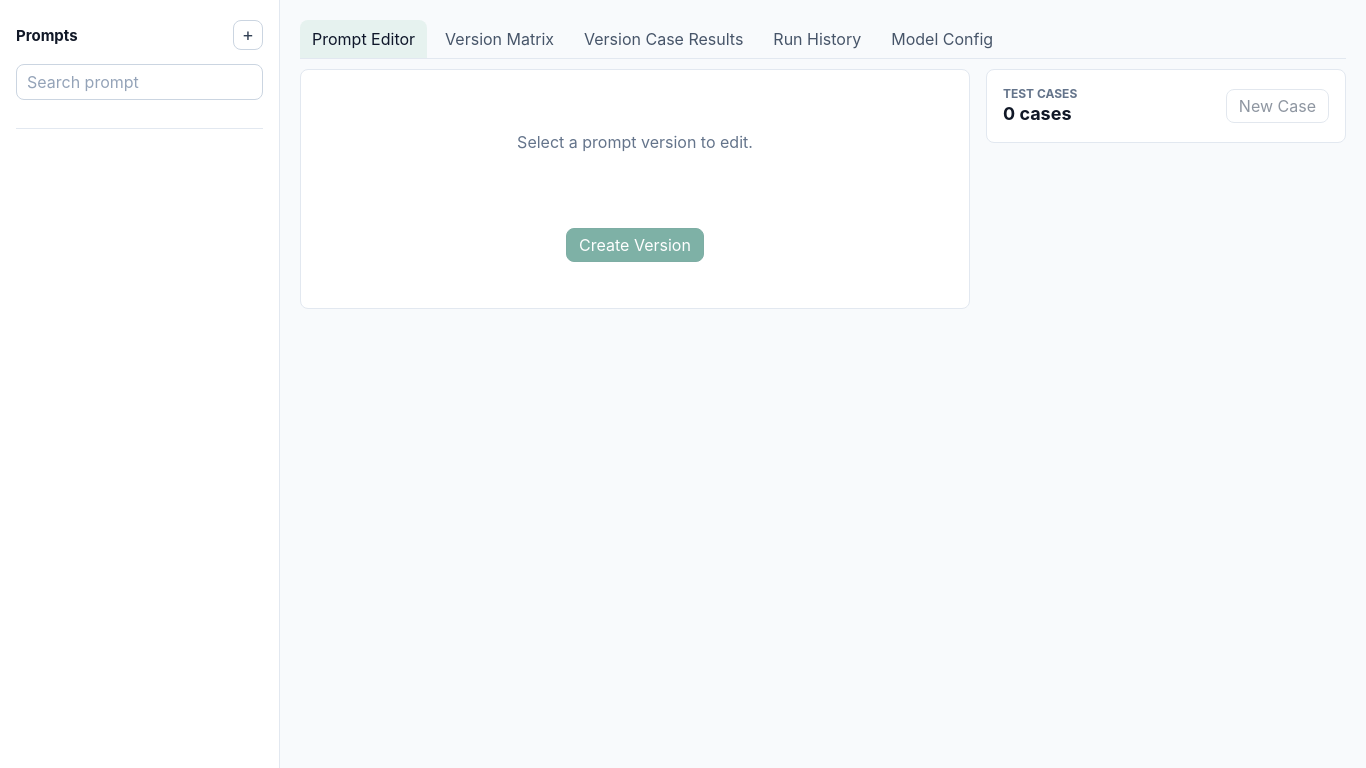
Test: App prompt creation › opens an in-app form when creating a prompt
Click the button named "New prompt" at [248, 35], box [233, 20, 263, 50]
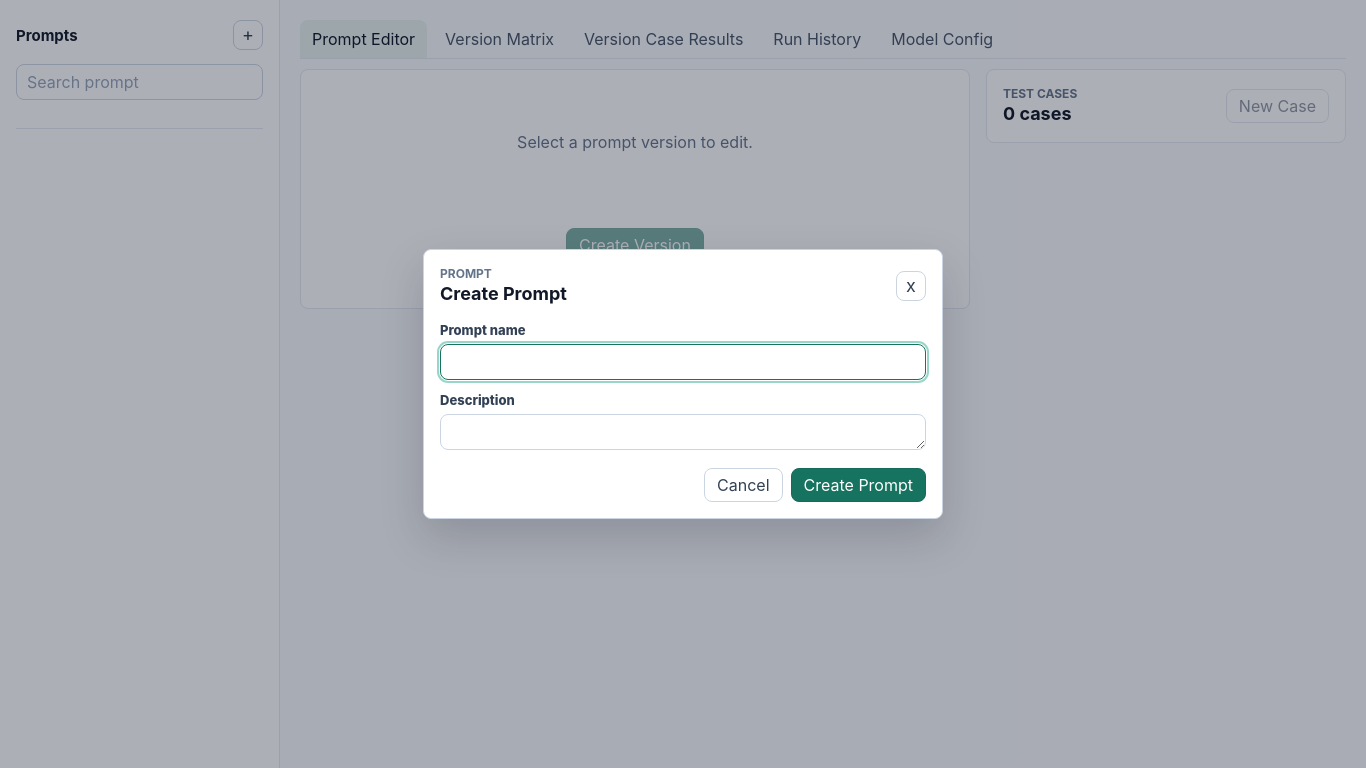
Now the dialog "Create Prompt" is shown, box [423, 249, 943, 519]
Now the field labelled "Prompt name" is shown, box [440, 344, 926, 380]
Now the text box labelled "Description" is shown, box [440, 414, 926, 450]
